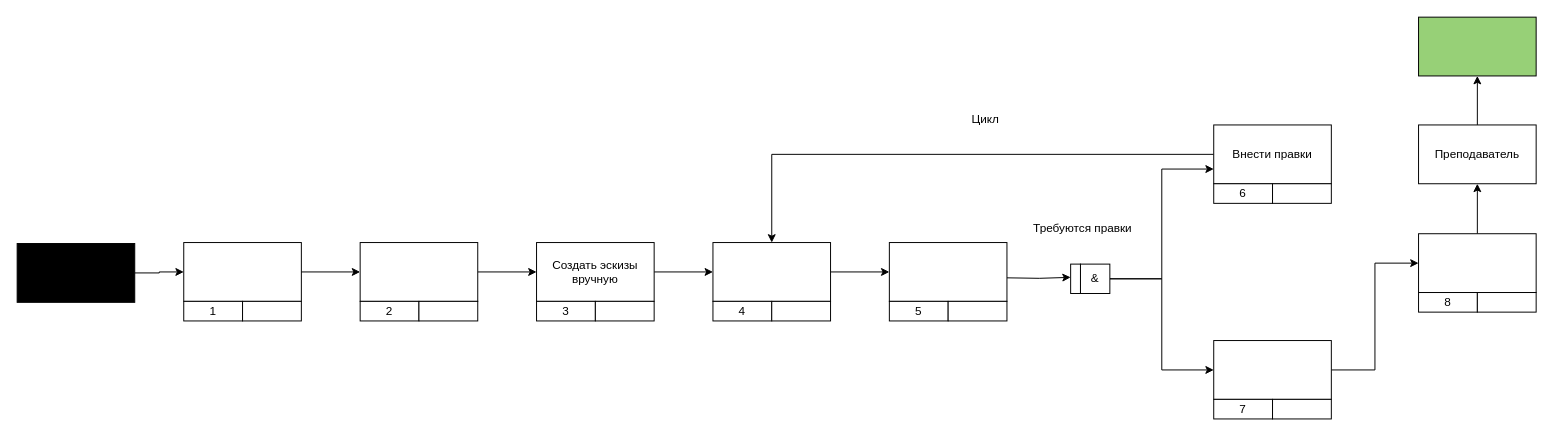
Some shapes in this 1553 by 436 pixel diagram are drawn without their labels. The centre of each missing label's shape, as x and y in pixels:
Готовый визуальный материал: [1477,46]
Оцифровать в редакторе: [771,271]
Получить текстовое задание: [242,271]
Проанализировать сюжет: [418,271]
Согласовать с преподавателем: [947,271]
Сохранить и передать материалы: [1477,263]
Утвердить: [1272,369]
